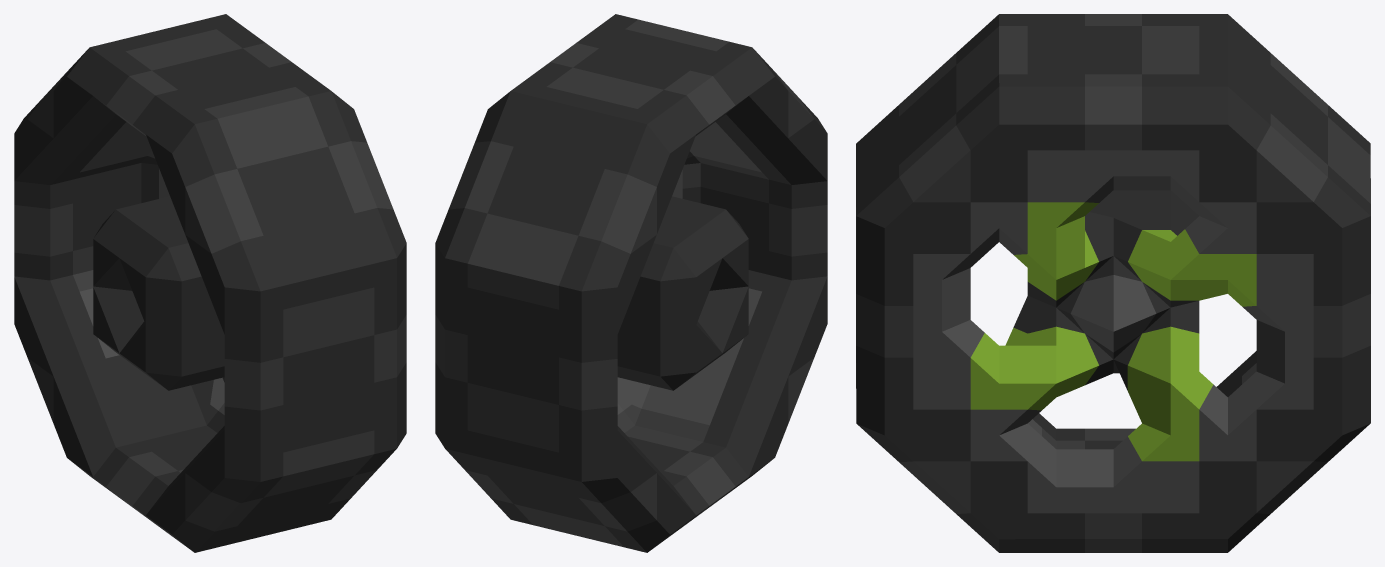
File: rccar_wheel_wc.FBX
The picture shows the model from 3 angles, left to right: view 1: azimuth 30°, elevation 25°; view 2: azimuth 150°, elevation 25°; view 3: azimuth 270°, elevation 25°; orthographic projection. The views are drawn at different scales.
Visible parts, largest first — view 1: rccar_wheel; view 2: rccar_wheel; view 3: rccar_wheel.
Boxes of the visible parts, <box> form: rccar_wheel: <box>14,14,406,552</box>; rccar_wheel: <box>435,14,827,552</box>; rccar_wheel: <box>856,14,1370,552</box>.
Bounding box in the file's own units: 158 × 354 × 354.
